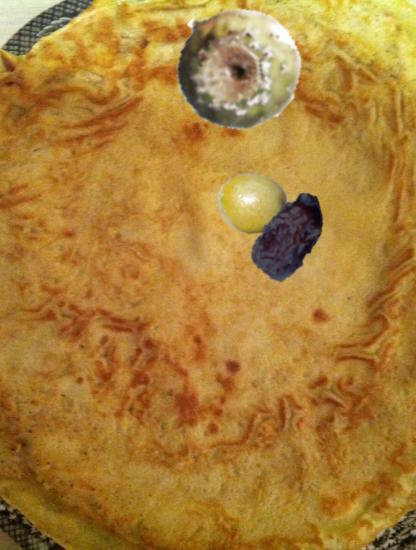Cactus: (171, 3, 300, 132)
Dates: (242, 188, 337, 283)
Maracuja: (217, 168, 289, 240)
